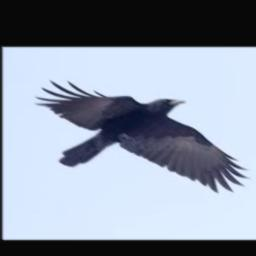Crow: (34, 80, 247, 191)
